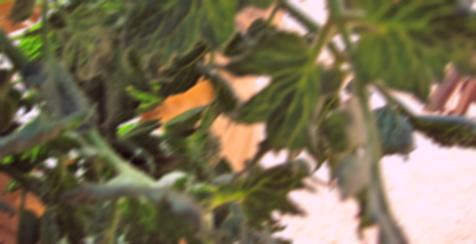Tomato leaf mosaic virus: (328, 0, 476, 96), (242, 32, 340, 145), (123, 0, 239, 63), (226, 164, 315, 228), (146, 41, 215, 111), (116, 187, 185, 244), (406, 109, 476, 162)
